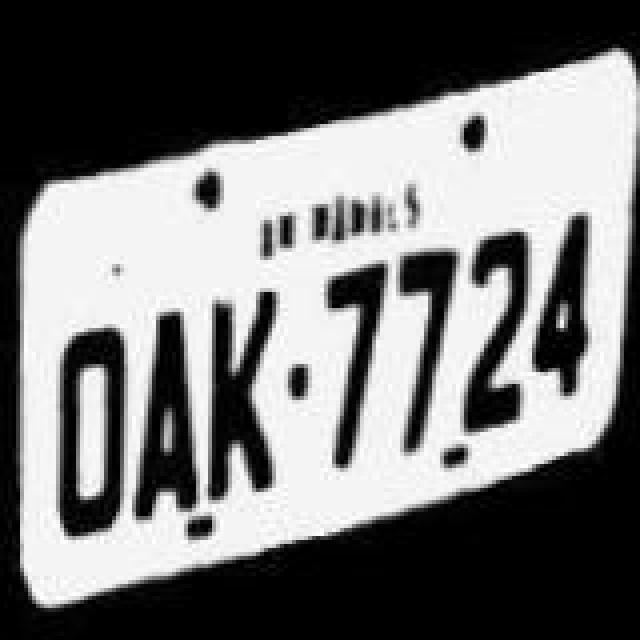2: (452, 224, 536, 444)
4: (528, 196, 612, 400)
7: (322, 246, 394, 506), (390, 242, 470, 462)
A: (134, 296, 210, 528)
K: (206, 276, 282, 508)
O: (54, 306, 130, 562)
